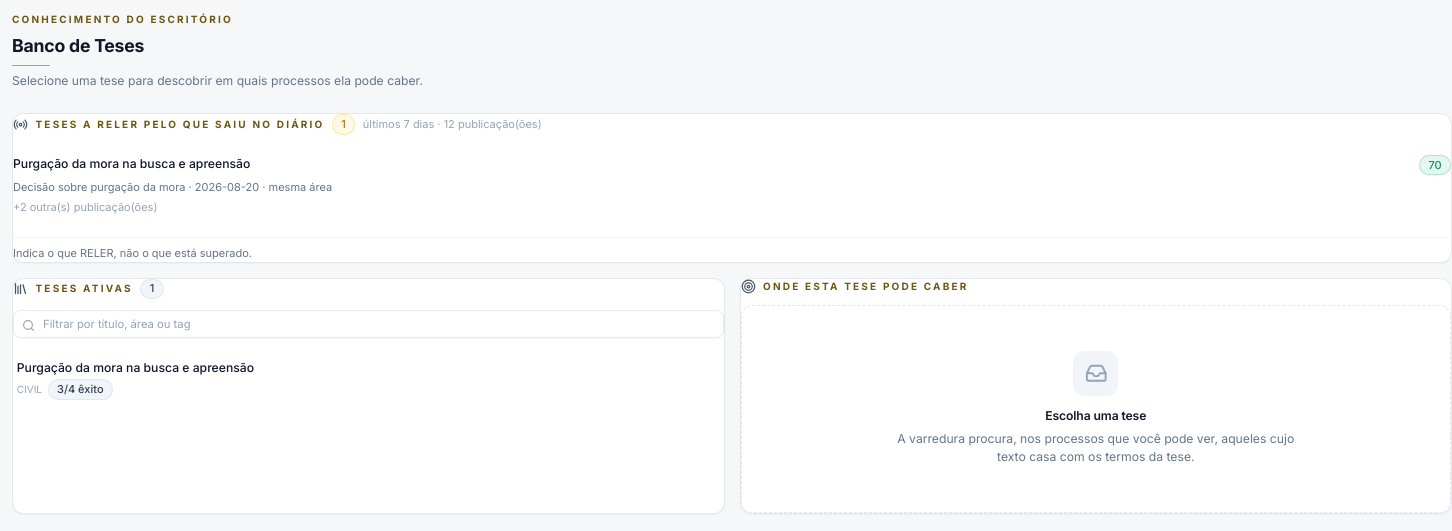
Banco de Teses › varre os casos da tese clicada e mostra os termos que casaram
This screenshot has width=1452, height=531.
Step 1. Click the text "Purgação da mora na busca e apreensão" → click(135, 367), box [17,360,254,375]
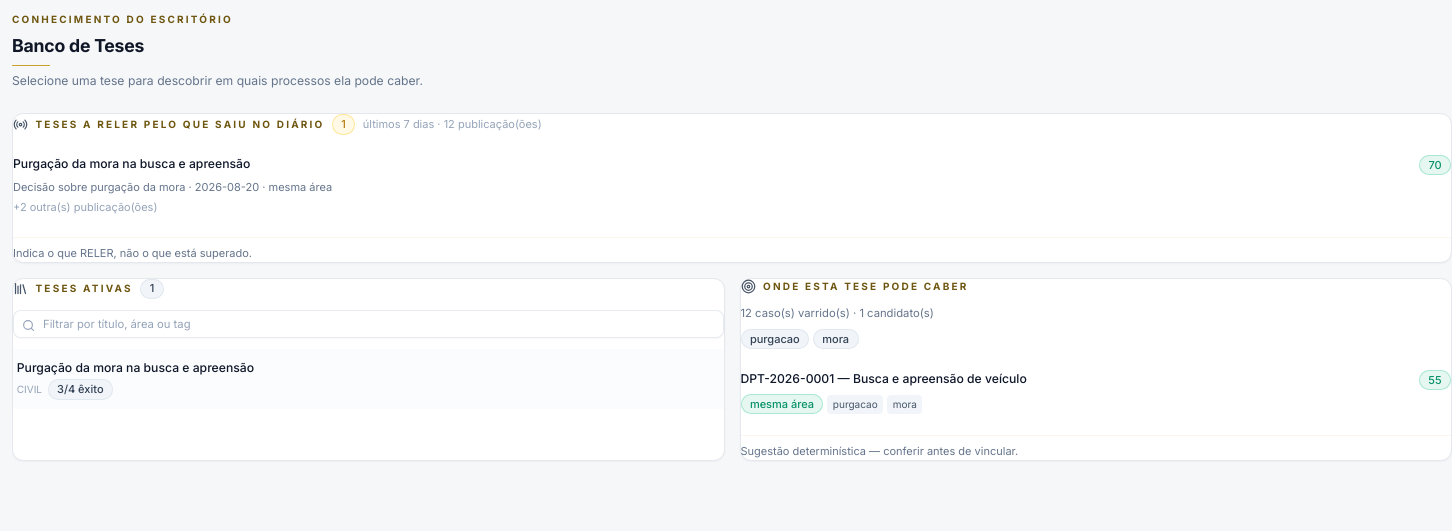
Now the link "DPT-2026-0001 — Busca e apreensão de veículo" is shown, box [740,371,1027,386]
Now the 1st text "purgacao" is shown, box [740,329,809,349]
Now the text "mesma área" is shown, box [740,394,824,414]
